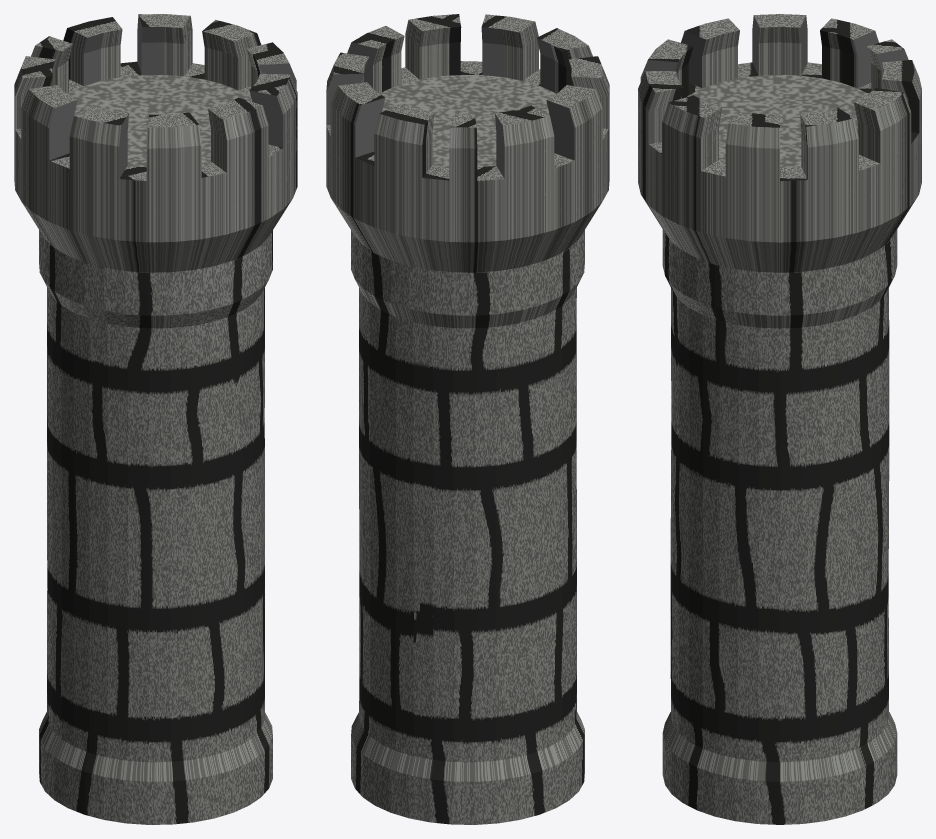
File: Wall Pillar.fbx
3 views of the same model, side by side, from view 1: azimuth 30°, elevation 25°; view 2: azimuth 150°, elevation 25°; view 3: azimuth 270°, elevation 25° (orthographic).
Parts seen in each view (by area): view 1: Cylinder; view 2: Cylinder; view 3: Cylinder.
Boxes of the visible parts, x1,y1,x2,y2 form: Cylinder: (14, 14, 297, 824); Cylinder: (326, 14, 609, 824); Cylinder: (638, 14, 921, 824).
Bounding box in the file's own units: 12.12 × 33.17 × 12.12.
Materials: 2 (1 with a texture image).
